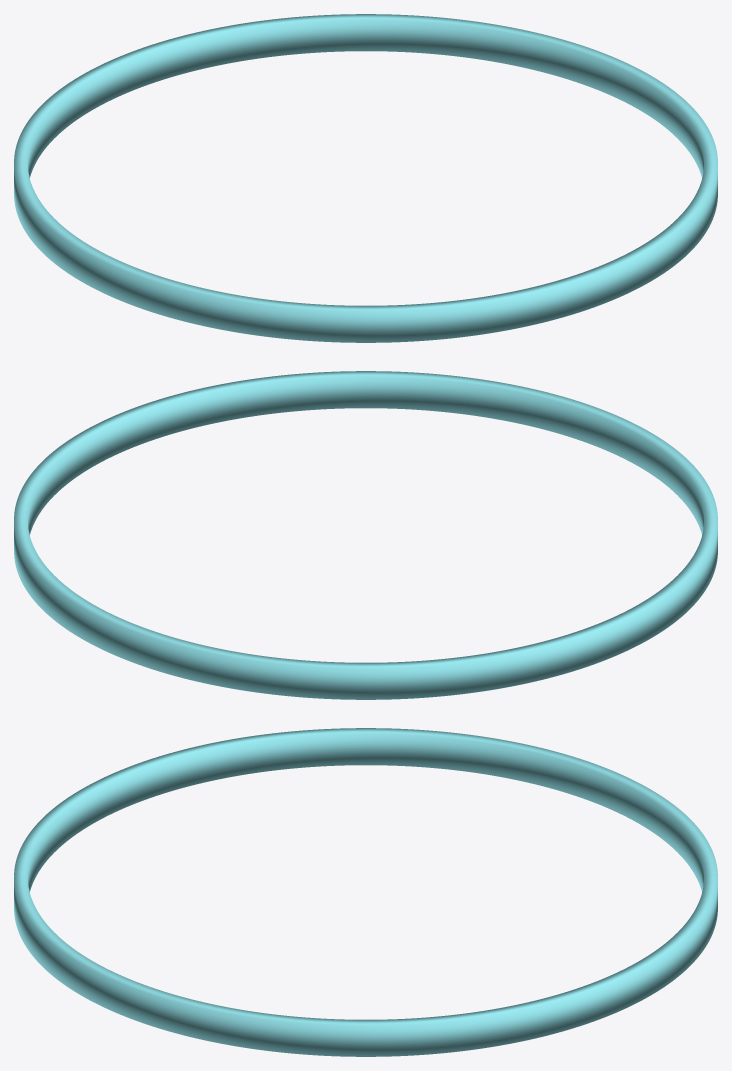
File: coil_coil_3_tube.gltf
3 renders of one model, top to bottom at view 1: azimuth 30°, elevation 25°; view 2: azimuth 150°, elevation 25°; view 3: azimuth 270°, elevation 25°, orthographic.
Visible parts, largest first — view 1: Renderer Node; view 2: Renderer Node; view 3: Renderer Node.
Part boxes in pixels (x1,y1,x2,y2): Renderer Node: (14, 14, 717, 342); Renderer Node: (14, 371, 717, 699); Renderer Node: (14, 728, 717, 1056).
Bounding box in the file's own units: 0.612 × 0.03 × 0.612.
